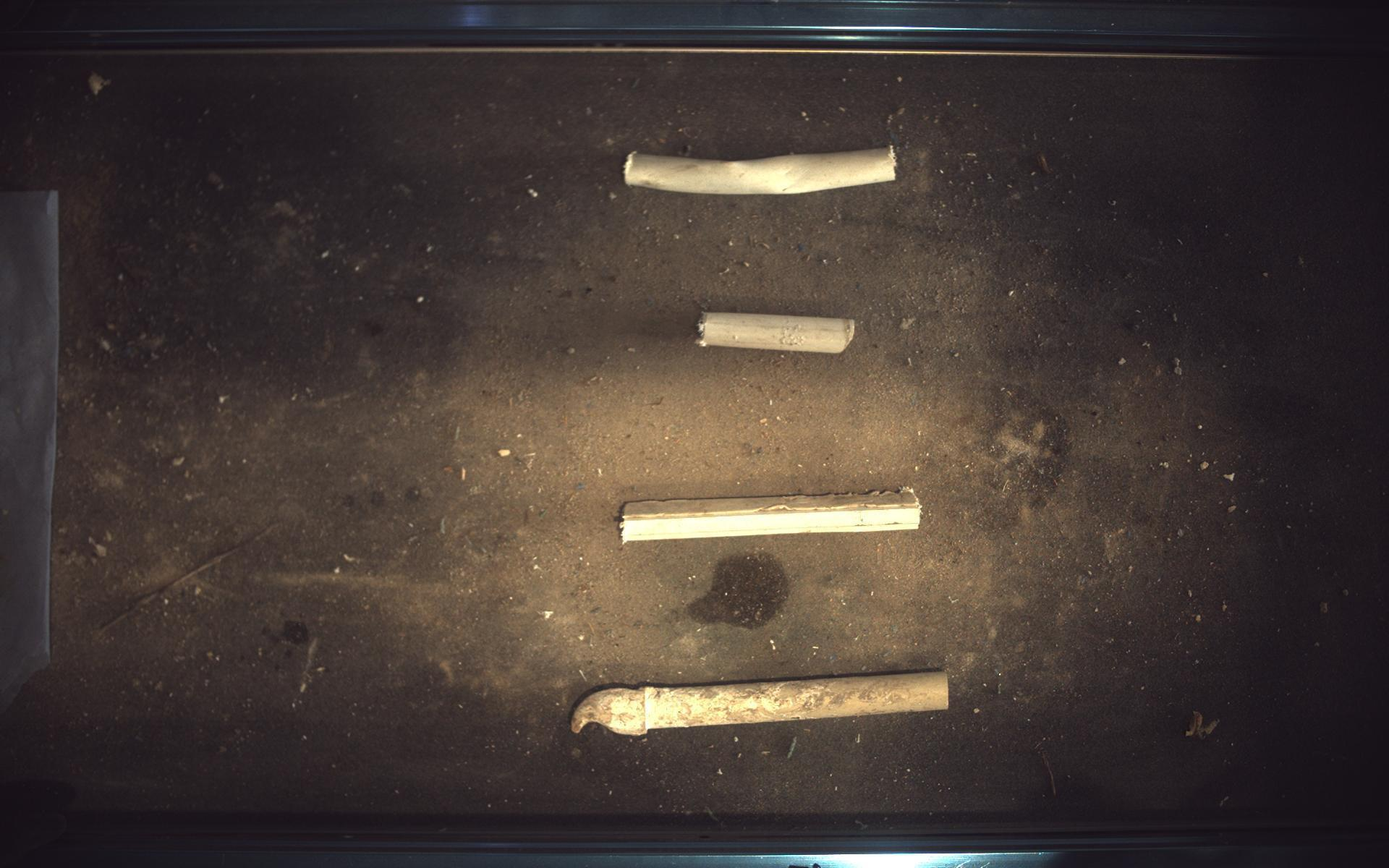pipes: (572, 672, 951, 736), (625, 148, 898, 193), (699, 312, 857, 353)
plastic: (620, 488, 923, 543)
